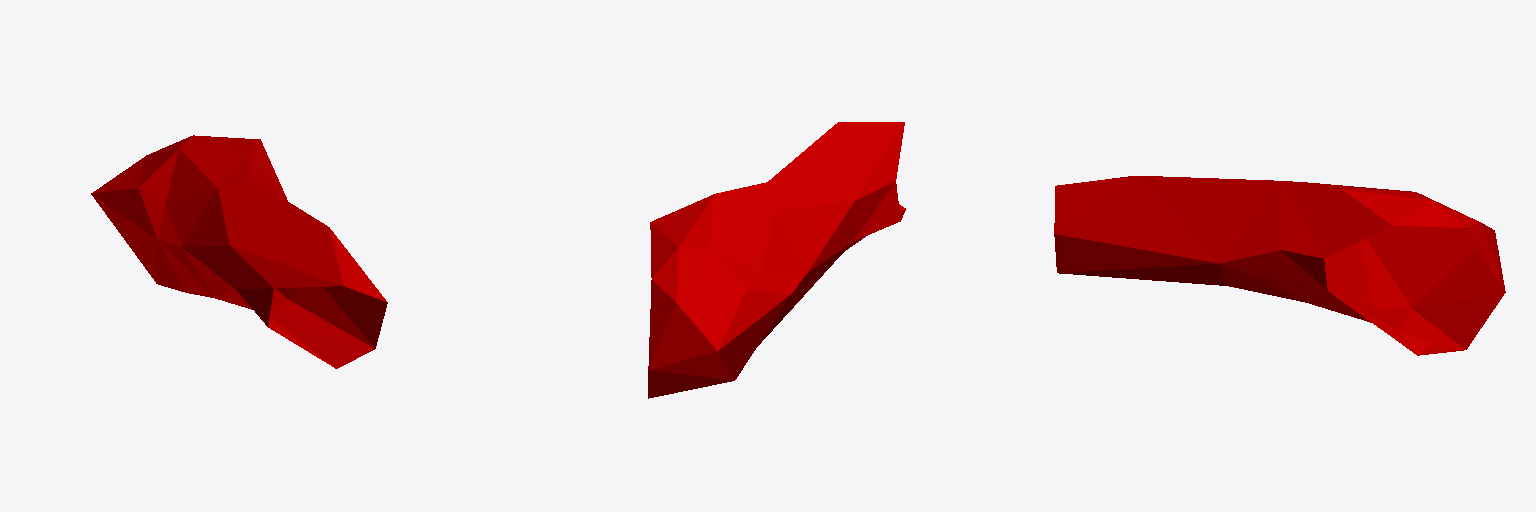
The model's file is arm-left.obj.
3 views of the same model, side by side, from view 1: azimuth 30°, elevation 25°; view 2: azimuth 150°, elevation 25°; view 3: azimuth 270°, elevation 25° (orthographic).
Visible parts, largest first — view 1: arm_left.001_Superhot_Enemy_Stl.018; view 2: arm_left.001_Superhot_Enemy_Stl.018; view 3: arm_left.001_Superhot_Enemy_Stl.018.
Part boxes in pixels (x1,y1,x2,y2): arm_left.001_Superhot_Enemy_Stl.018: (91,135,387,368); arm_left.001_Superhot_Enemy_Stl.018: (648,122,905,398); arm_left.001_Superhot_Enemy_Stl.018: (1054,176,1505,355).
Size of the model in its own units: 9.52 by 12.06 by 30.38.